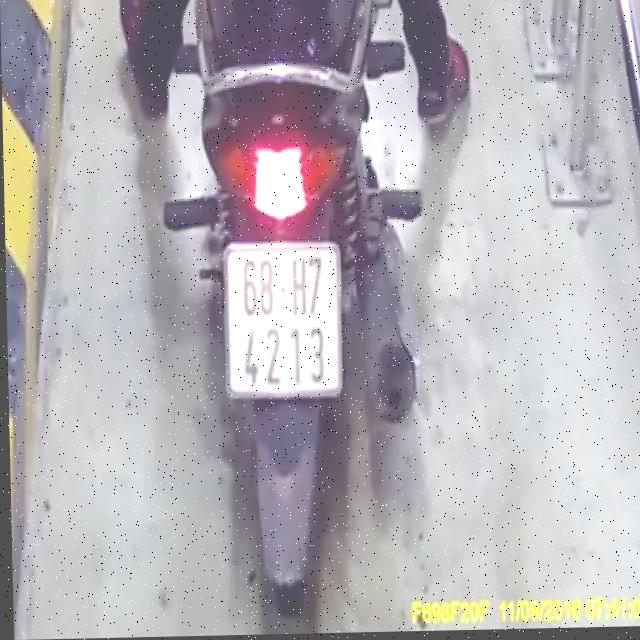motorcycle: (161, 0, 427, 628)
plate: (223, 237, 347, 403)
